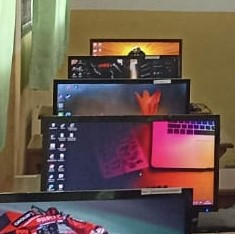monitor: (39, 114, 220, 213), (53, 79, 191, 117)
